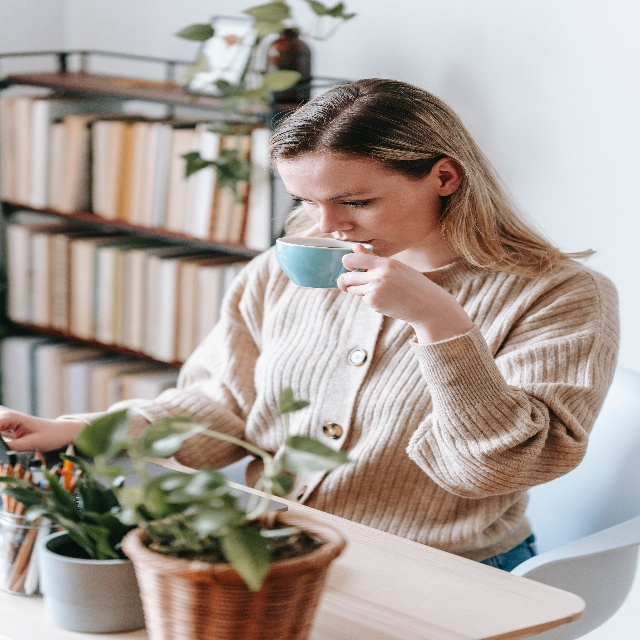Sin_guantes: (336, 242, 450, 329), (0, 404, 63, 453)
